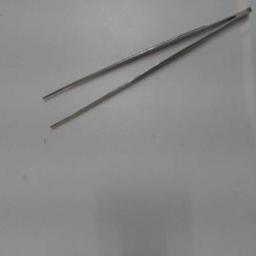DeBakey Dissector: (36, 3, 254, 145)
